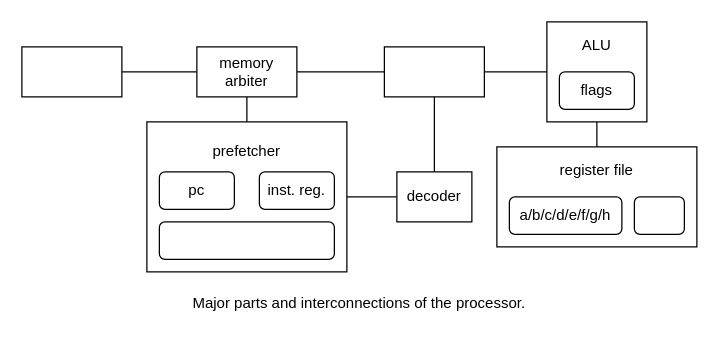
Some shapes in this 719 by 344 pixel diagram are drawn without their labels. The shapes that lost their labels are listed below. From the top down, each one's centre as x and y in pixels, then its label:
(71,71): memory interface
(433,71): scheduler
(658,215): sp
(246,240): prefetch queue
